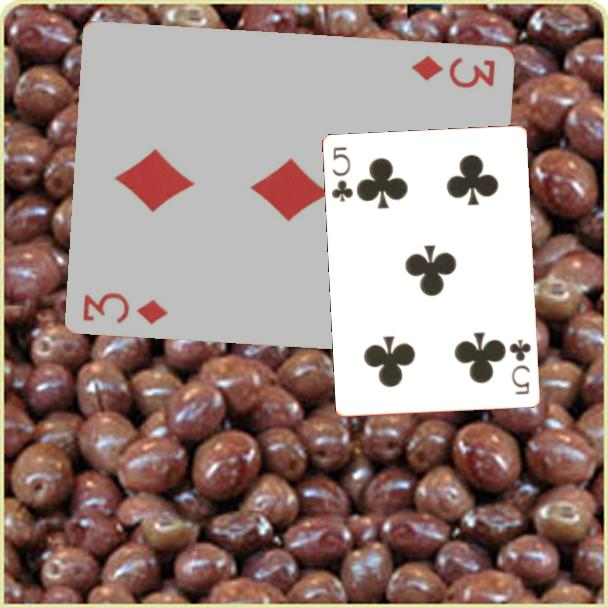c05: (506, 336, 534, 398), (328, 144, 356, 205)
d03: (79, 288, 171, 327), (408, 51, 499, 90)
